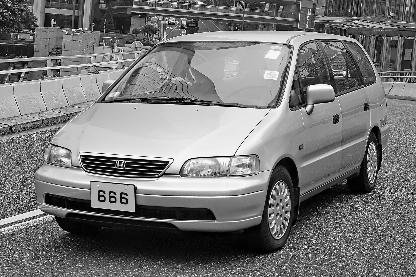license plate: (90, 176, 140, 215)
